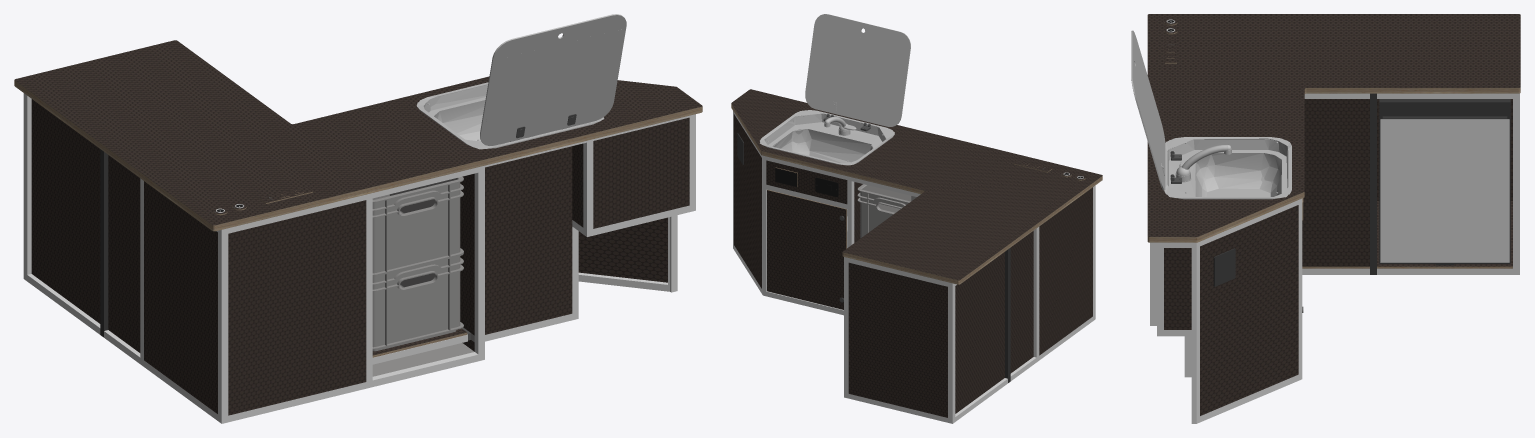
The model's file is aluminum-front-kitchen-hexa.glb.
The picture shows the model from 3 angles, left to right: view 1: azimuth 30°, elevation 25°; view 2: azimuth 150°, elevation 25°; view 3: azimuth 270°, elevation 25°; orthographic projection. The views are drawn at different scales.
Visible parts, largest first — view 1: Oak top18mm - revised perimeter and original sink cutout_0, Main back wall_1, Sink clearance - pannel (10) - faucet fitting clearance80mm_, Main end wall_1, Fridge back wall_1, Gray ceramic printed field approximation_0, pannel (8)_1, ボディ1 (1)_0, ボディ1_0, Service back wall_1, Black safety glass_0, pannel (4)_0 (+23 smaller); view 2: Oak top18mm - revised perimeter and original sink cutout_0, Driver end outer panel_1, pannel (3)_1, Main end wall_1, Fridge back wall_1, ボディ15 (1)_0, Stainless basin with rear faucet ledge_0, pannel (4)_0, Black safety glass_0, Service back wall_1, ボディ1 (1)_0, Control panel - monitor94x57 and remote73x43_1 (+14 smaller); view 3: Oak top18mm - revised perimeter and original sink cutout_0, Dark gray frameless face_0, pannel (4)_0, Front service closure panel196x535.5_1, Stainless basin with rear faucet ledge_0, Door black surround with full-width recessed handle_0, pannel (6)_0, frame (28)_0, ボディ15 (1)_0, Driver rear corner post20x20_0, Fridge left facade post20x20_0, Black safety glass_0 (+15 smaller).
Boxes of the visible parts, x1,y1,x2,y2 form: Oak top18mm - revised perimeter and original sink cutout_0: [14, 40, 702, 231]; Main back wall_1: [228, 200, 366, 415]; Sink clearance - pannel (10) - faucet fitting clearance80mm_: [485, 146, 572, 334]; Main end wall_1: [144, 181, 217, 413]; Fridge back wall_1: [31, 99, 100, 323]; Gray ceramic printed field approximation_0: [485, 29, 622, 131]; pannel (8)_1: [593, 117, 689, 228]; ボディ1 (1)_0: [372, 176, 463, 275]; ボディ1_0: [372, 253, 463, 351]; Service back wall_1: [108, 155, 140, 352]; Black safety glass_0: [480, 14, 626, 145]; pannel (4)_0: [578, 217, 667, 282]; Oak top18mm - revised perimeter and original sink cutout_0: [731, 89, 1102, 284]; Driver end outer panel_1: [848, 262, 947, 417]; pannel (3)_1: [767, 190, 846, 309]; Main end wall_1: [1039, 187, 1092, 355]; Fridge back wall_1: [955, 252, 1004, 413]; ボディ15 (1)_0: [808, 27, 907, 113]; Stainless basin with rear faucet ledge_0: [760, 110, 894, 164]; pannel (4)_0: [734, 114, 761, 288]; Black safety glass_0: [805, 14, 910, 126]; Service back wall_1: [1010, 231, 1033, 373]; ボディ1 (1)_0: [857, 184, 916, 238]; Control panel - monitor94x57 and remote73x43_1: [766, 160, 847, 204]; Oak top18mm - revised perimeter and original sink cutout_0: [1147, 14, 1520, 242]; Dark gray frameless face_0: [1380, 119, 1509, 262]; pannel (4)_0: [1200, 205, 1298, 415]; Front service closure panel196x535.5_1: [1302, 99, 1369, 266]; Stainless basin with rear faucet ledge_0: [1164, 137, 1291, 198]; Door black surround with full-width recessed handle_0: [1379, 99, 1510, 263]; pannel (6)_0: [1164, 248, 1191, 329]; frame (28)_0: [1191, 242, 1199, 423]; ボディ15 (1)_0: [1137, 45, 1159, 175]; Driver rear corner post20x20_0: [1513, 93, 1519, 274]; Fridge left facade post20x20_0: [1370, 93, 1376, 274]; Black safety glass_0: [1131, 30, 1165, 190].
Size of the model in its own units: 1.53 by 0.9634 by 1.13.
9 materials, 2 textured.
